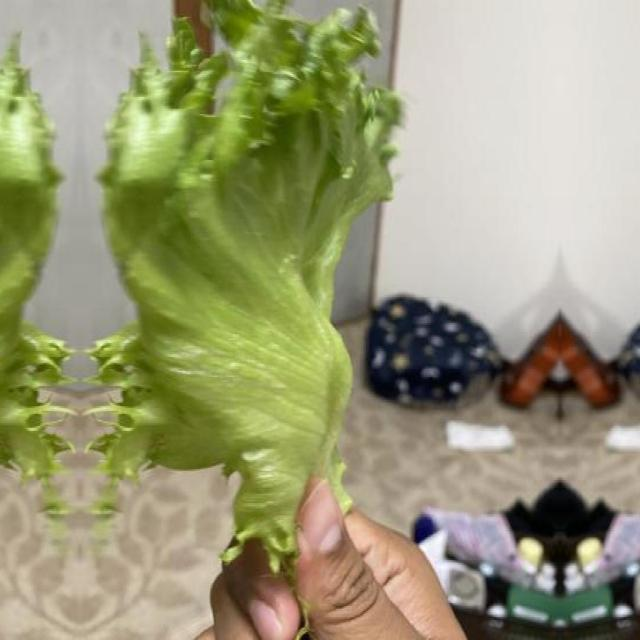healthy: (96, 0, 402, 538), (0, 0, 63, 538)
